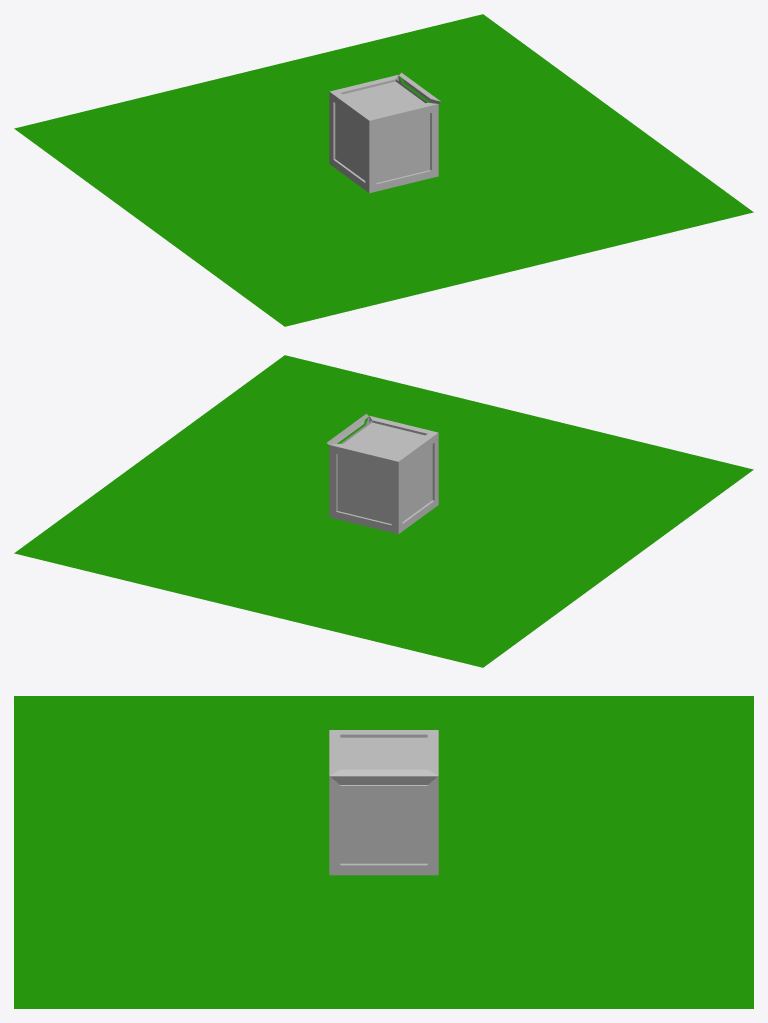
The model's file is caixa_000012.obj.
3 views of the same model, one above another, from view 1: azimuth 30°, elevation 25°; view 2: azimuth 150°, elevation 25°; view 3: azimuth 270°, elevation 25° (orthographic). The views are drawn at different scales.
Parts seen in each view (by area): view 1: Plane, Cube_Cube.003; view 2: Plane, Cube_Cube.003; view 3: Plane, Cube_Cube.003, Cube.002_Cube.001, Cube.001_Cube.000.
Part boxes in pixels (left/top/right/bottom): Plane: left=14, top=14, right=753, bottom=326; Cube_Cube.003: left=329, top=74, right=438, bottom=193; Plane: left=14, top=355, right=753, bottom=667; Cube_Cube.003: left=329, top=415, right=438, bottom=534; Plane: left=14, top=696, right=753, bottom=1008; Cube_Cube.003: left=329, top=730, right=438, bottom=875; Cube.002_Cube.001: left=340, top=785, right=427, bottom=863; Cube.001_Cube.000: left=329, top=769, right=438, bottom=784.
Size of the model in its own units: 13.55 by 2.09 by 13.55.
